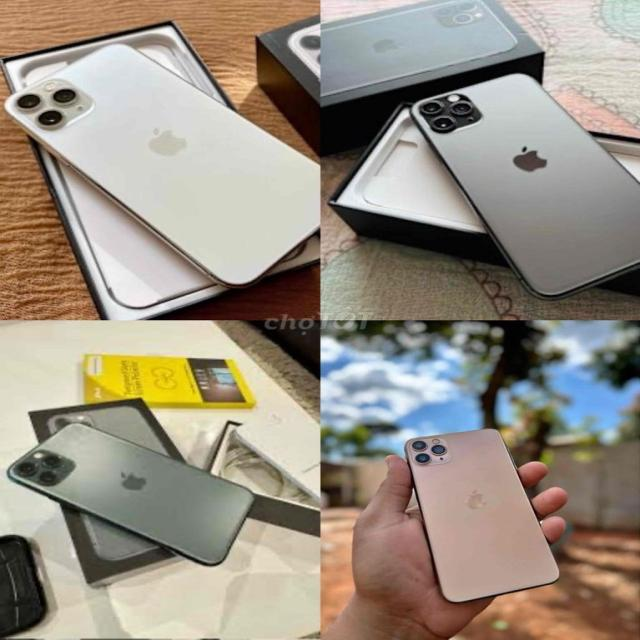gen_11: (404, 417, 559, 608)
